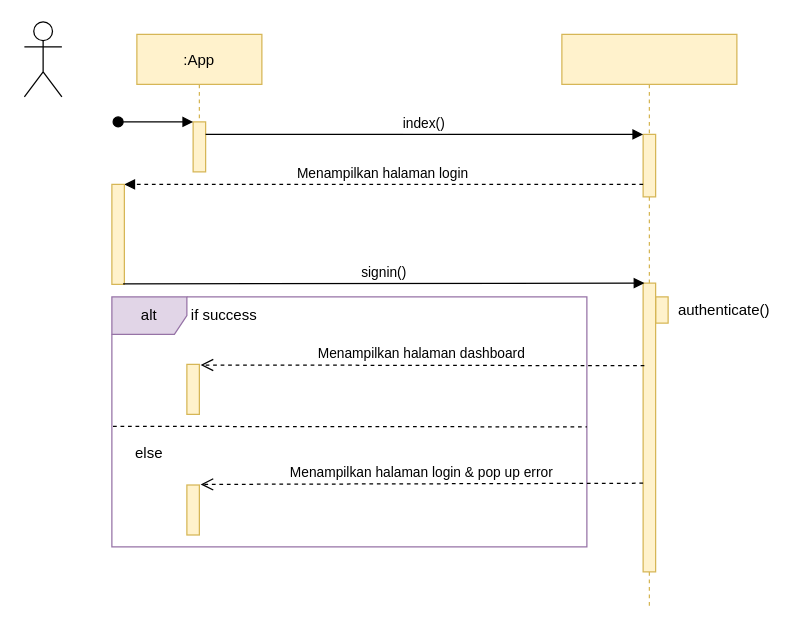
This 791x631 diagram has some shape labels left out. The box of each missing label's shape, as (x1, y1, x2, y2) in pixels:
:App - Login Page: (561, 33, 737, 609)
Admin: (23, 21, 62, 97)
